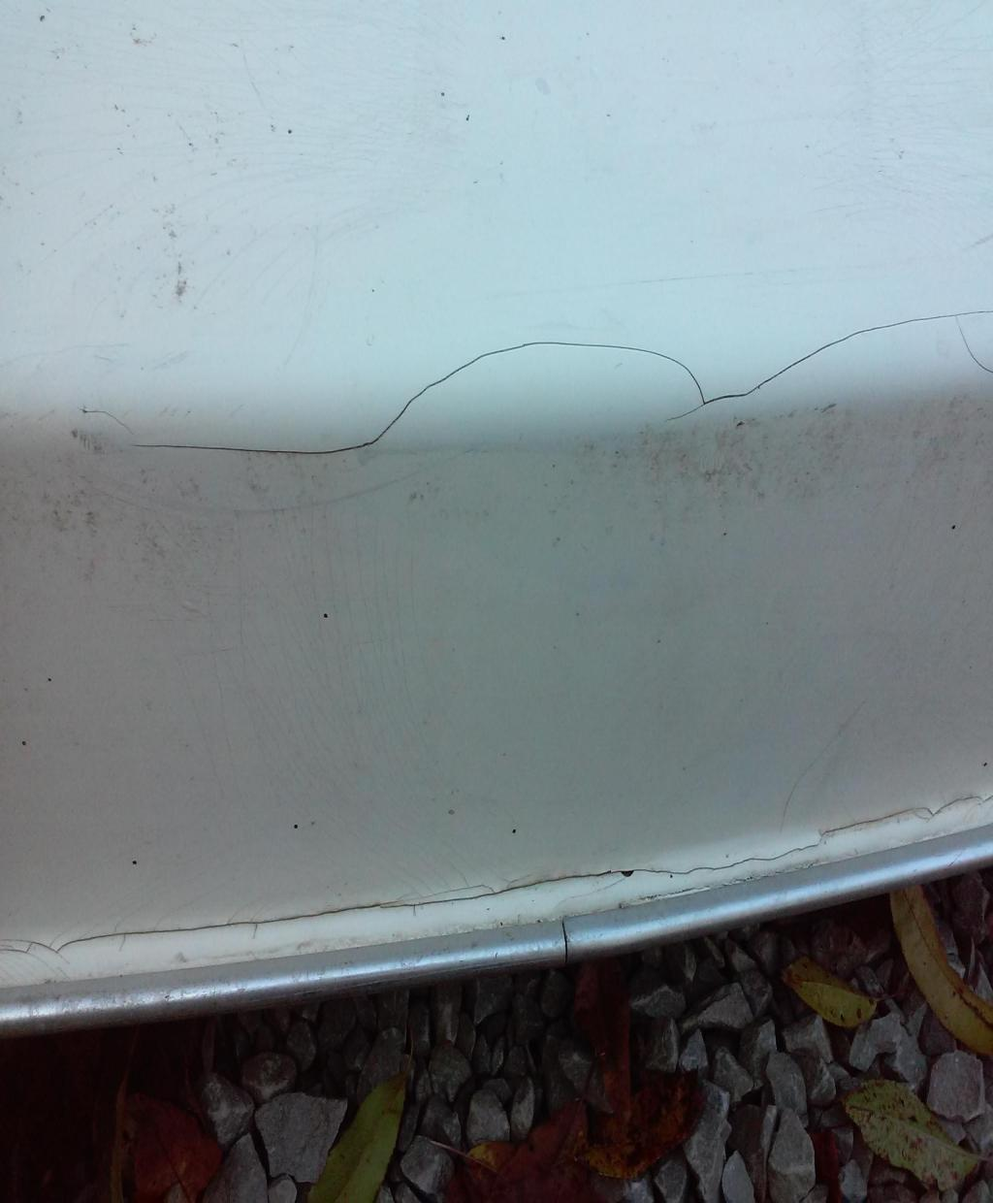crack: (108, 301, 993, 470)
